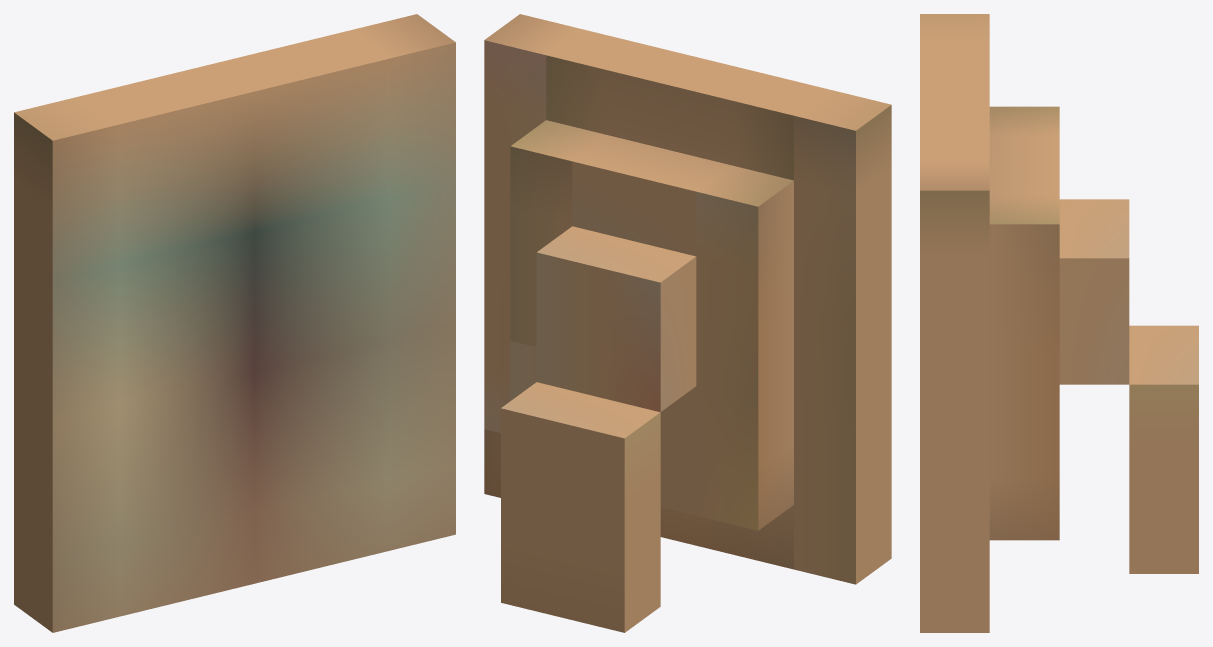
The model's file is PaintingSmallWoodFrame_00.obj.
3 views of the same model, side by side, from view 1: azimuth 30°, elevation 25°; view 2: azimuth 150°, elevation 25°; view 3: azimuth 270°, elevation 25° (orthographic). The views are drawn at different scales.
Visible parts, largest first — view 1: PaintingSmallWoodFrame_00; view 2: PaintingSmallWoodFrame_00; view 3: PaintingSmallWoodFrame_00.
Boxes of the visible parts, box(x1,y1,x2,y2) form: PaintingSmallWoodFrame_00: box(14, 14, 455, 632); PaintingSmallWoodFrame_00: box(484, 14, 891, 632); PaintingSmallWoodFrame_00: box(920, 14, 1198, 632).
Bounding box in the file's own units: 0.3 × 0.35 × 0.2.
